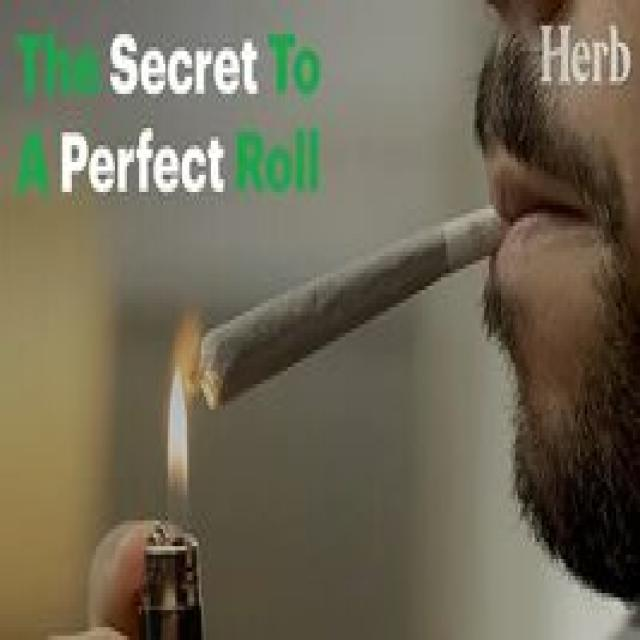smoke: (192, 201, 518, 418)
